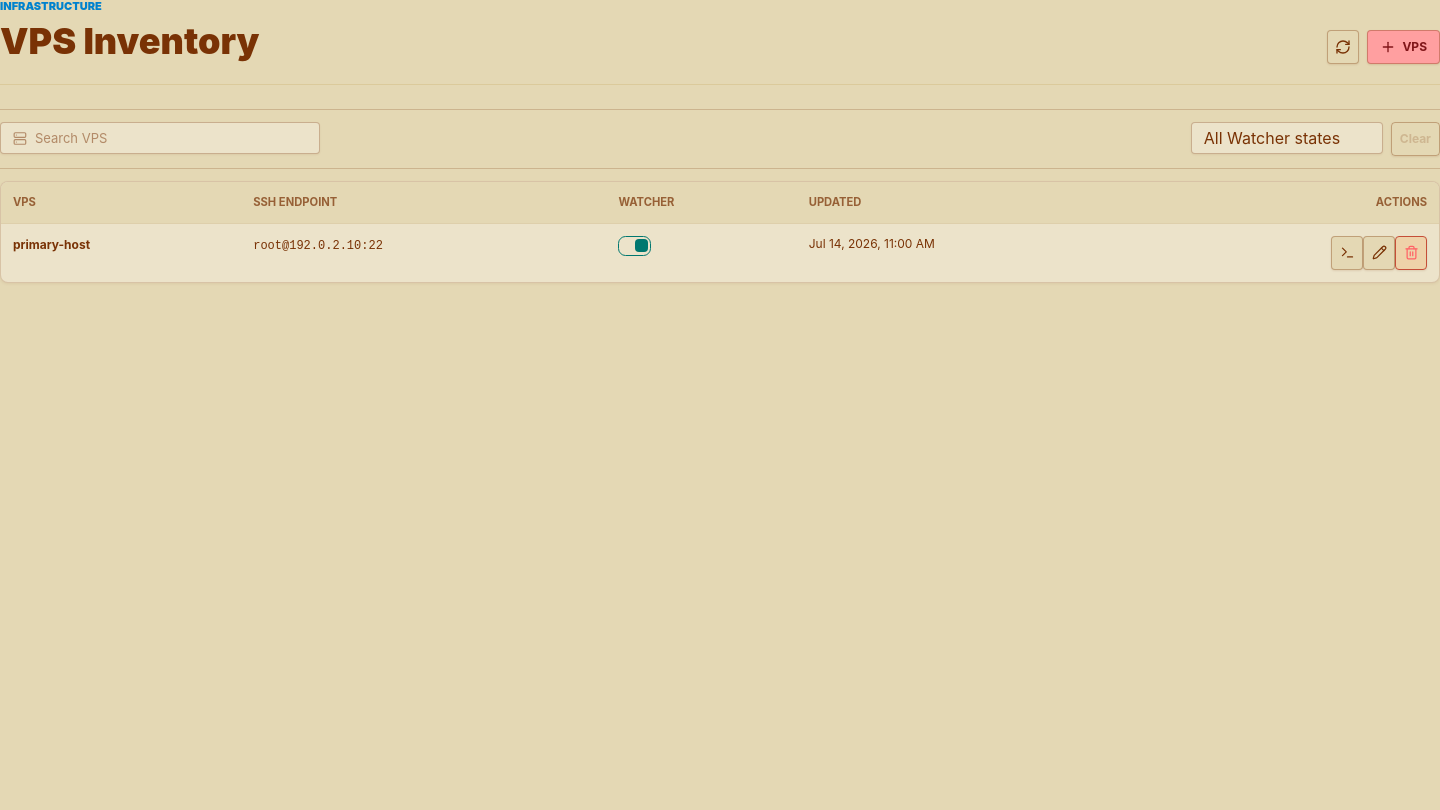
Test: VpsPage › renders the standalone SSH host contract without cloud controls
Click the button named "Edit primary-host": (1379, 253) [1363,236,1395,270]
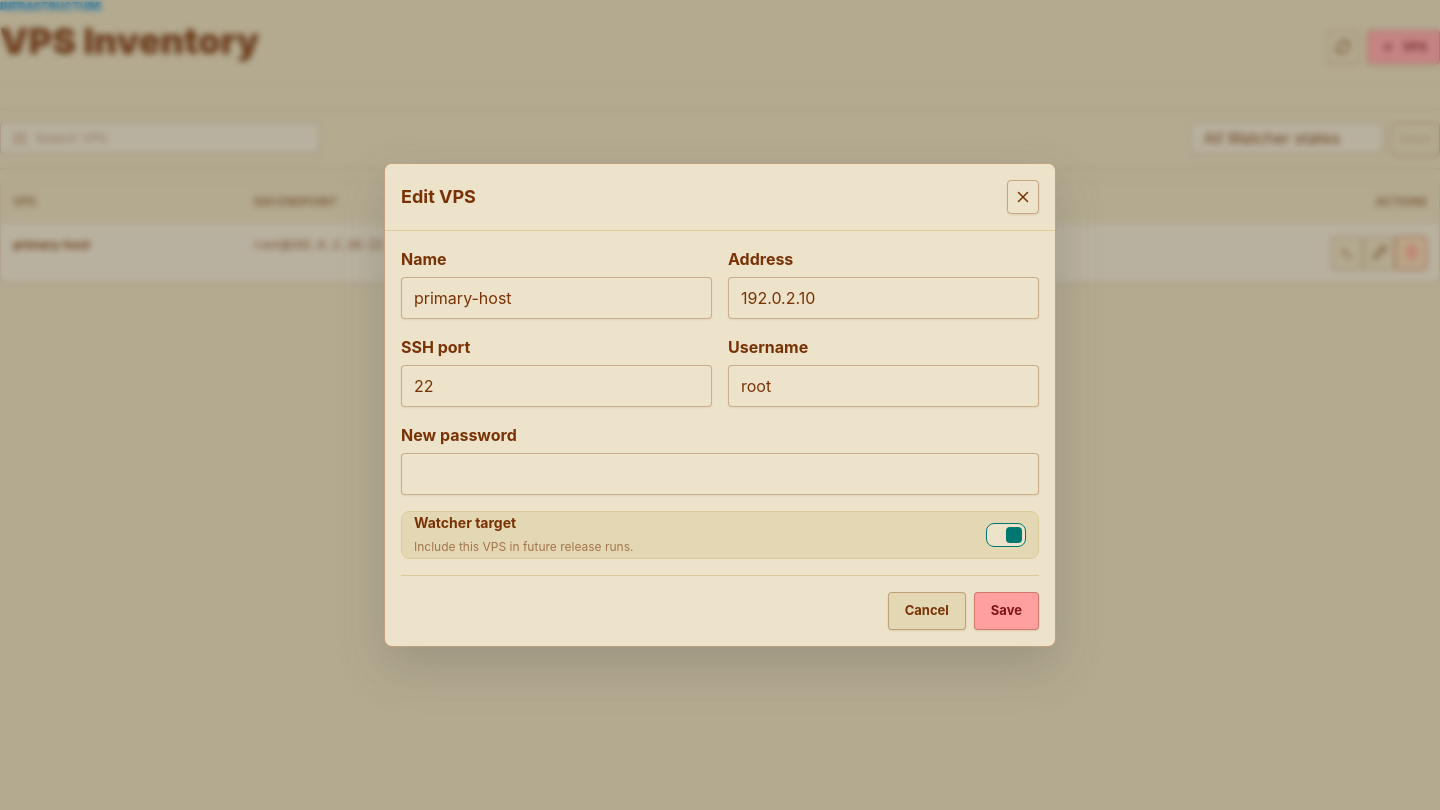
Expected: the dialog is shown
